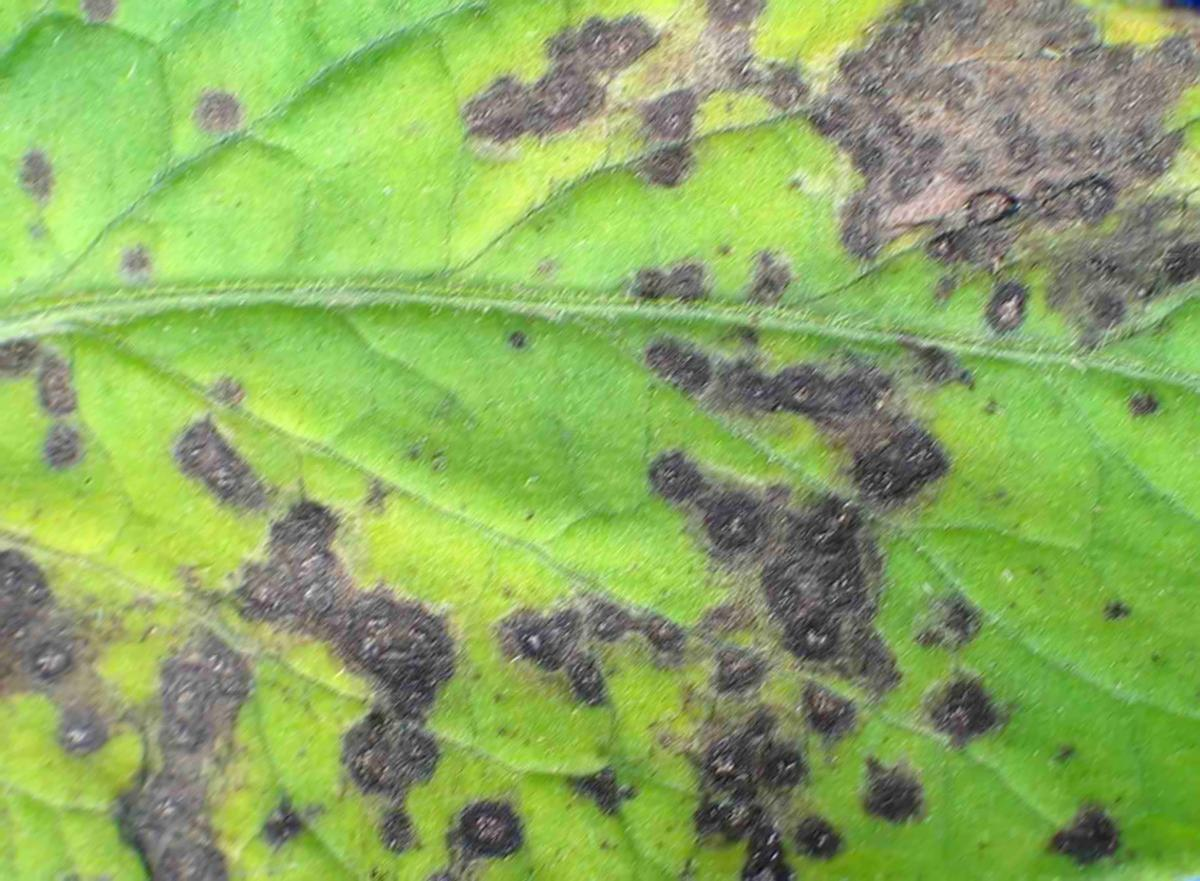Tomato Septoria leaf spot: (1, 0, 1183, 867)
